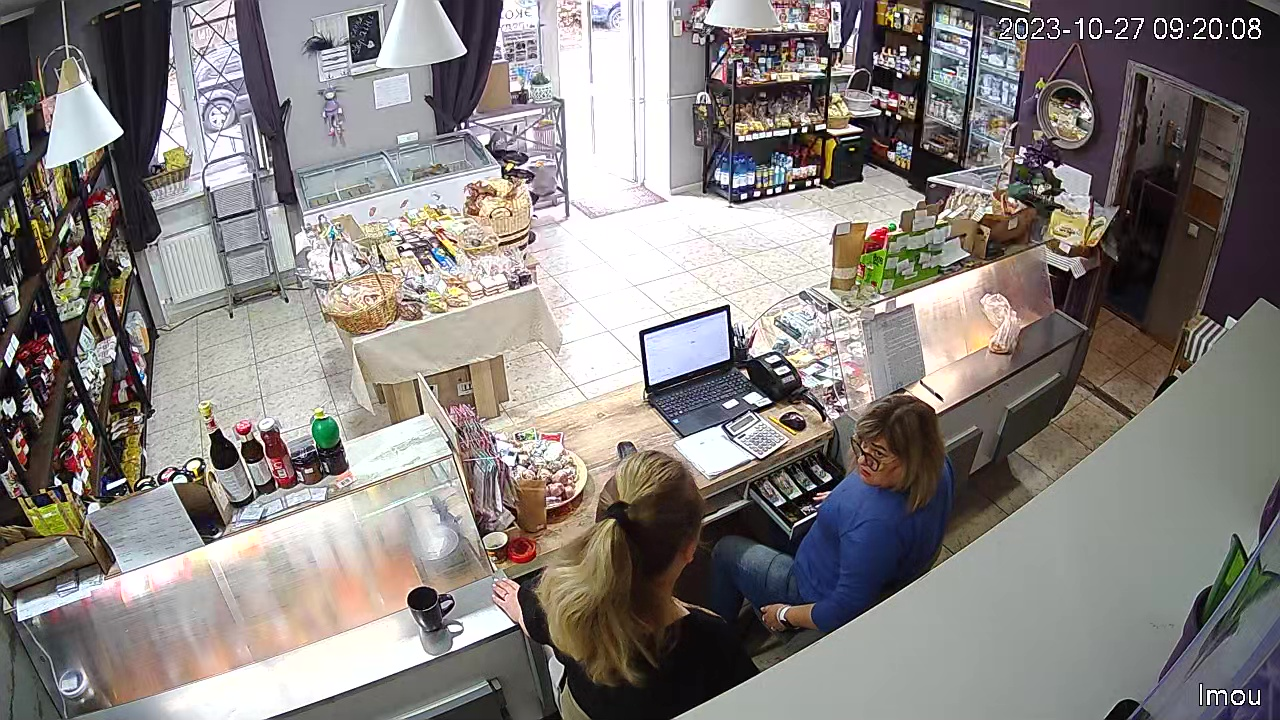openedcash: (745, 449, 854, 529)
